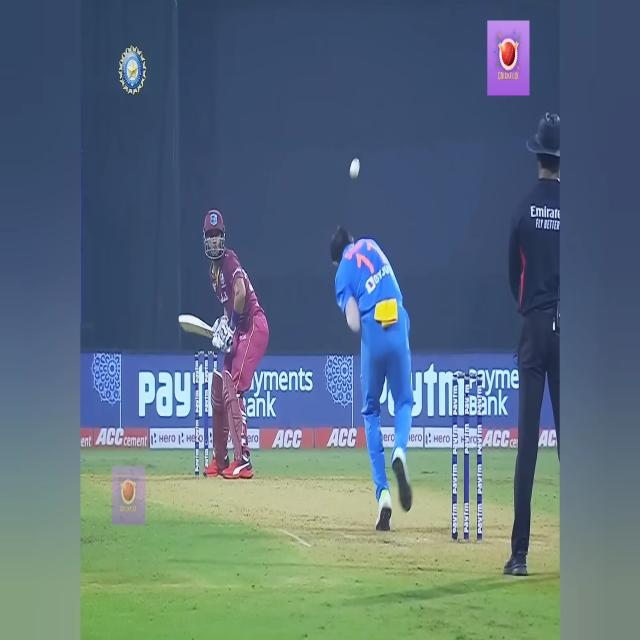partially_visible: (135, 362, 236, 420), (379, 365, 472, 424)
